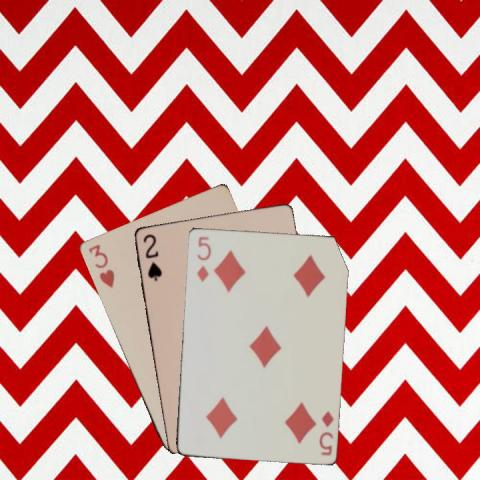2s: (140, 230, 163, 283)
3h: (85, 241, 116, 289)
5d: (315, 407, 335, 457), (193, 233, 212, 283)
